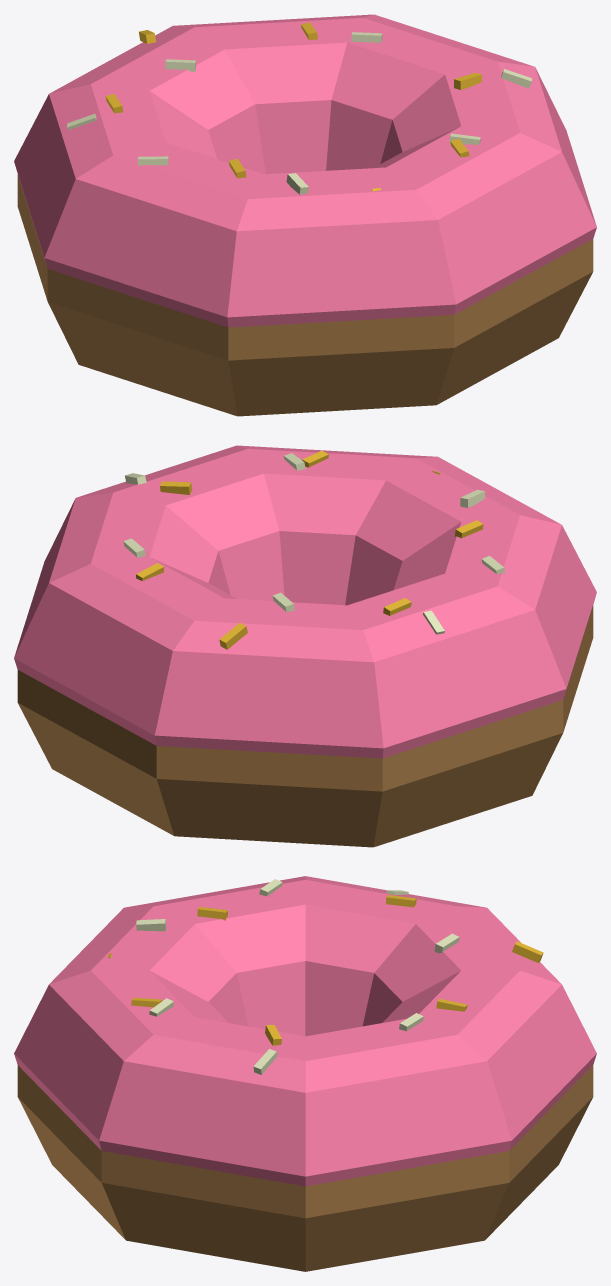
Rendered from doughnut_pink.fbx.
3 views of the same model, one above another, from view 1: azimuth 30°, elevation 25°; view 2: azimuth 150°, elevation 25°; view 3: azimuth 270°, elevation 25° (orthographic). The views are drawn at different scales.
Parts seen in each view (by area): view 1: donut_st; view 2: donut_st; view 3: donut_st.
Part boxes in pixels (bbox=[...]): donut_st: bbox=[14, 14, 596, 416]; donut_st: bbox=[14, 445, 596, 847]; donut_st: bbox=[14, 876, 596, 1271].
Size of the model in its own units: 119 by 49 by 119.
